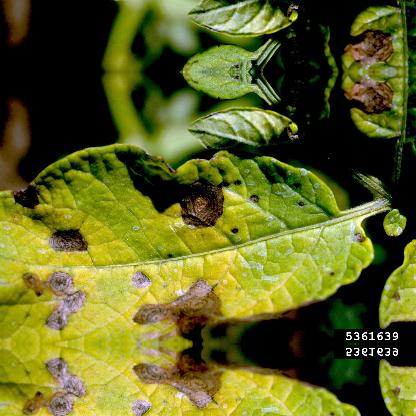Early-Blight: (0, 139, 330, 342), (0, 343, 330, 416), (334, 73, 416, 156), (334, 0, 415, 69)
